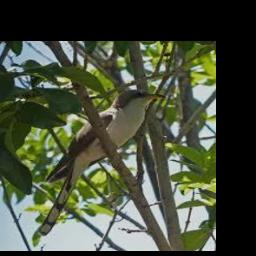Cuckoo: (37, 89, 166, 235)
